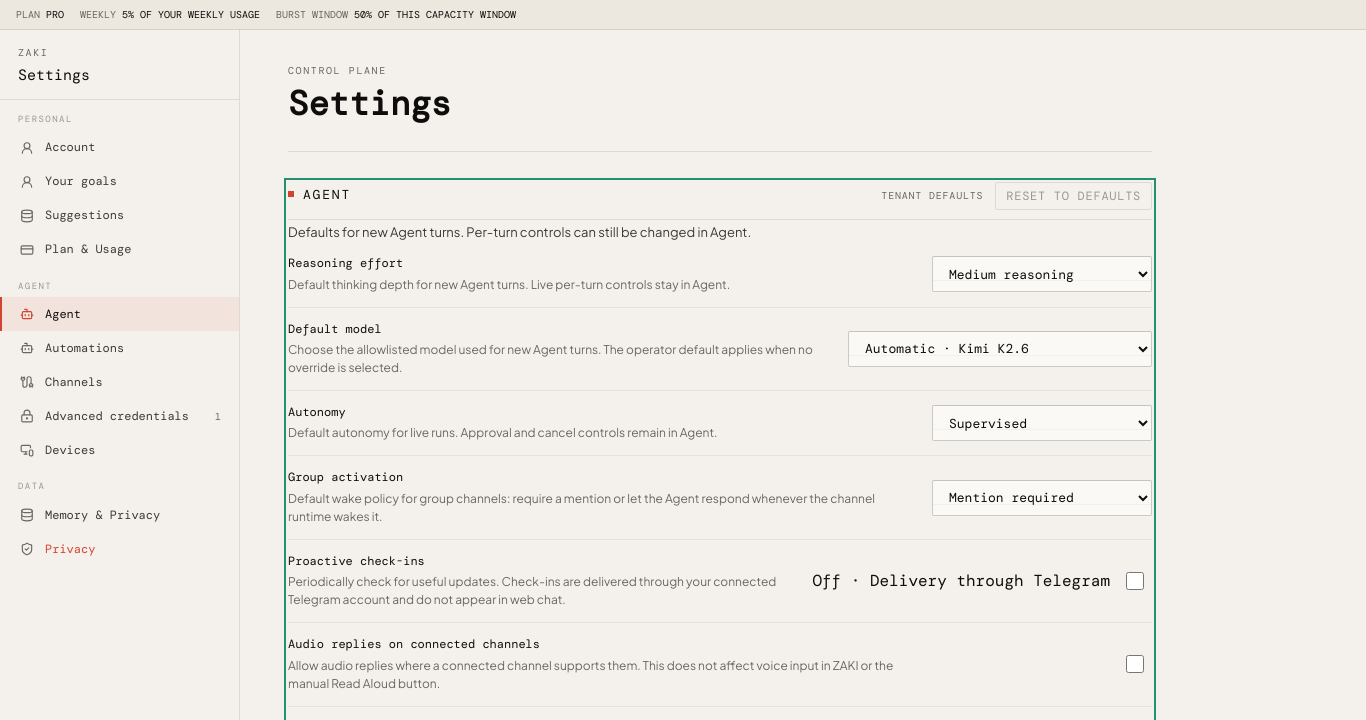
Scenario: SettingsPage › keeps memory governance editable only in Memory & Data
Click the link "Memory & Privacy": point(90, 515) [20,507,160,523]
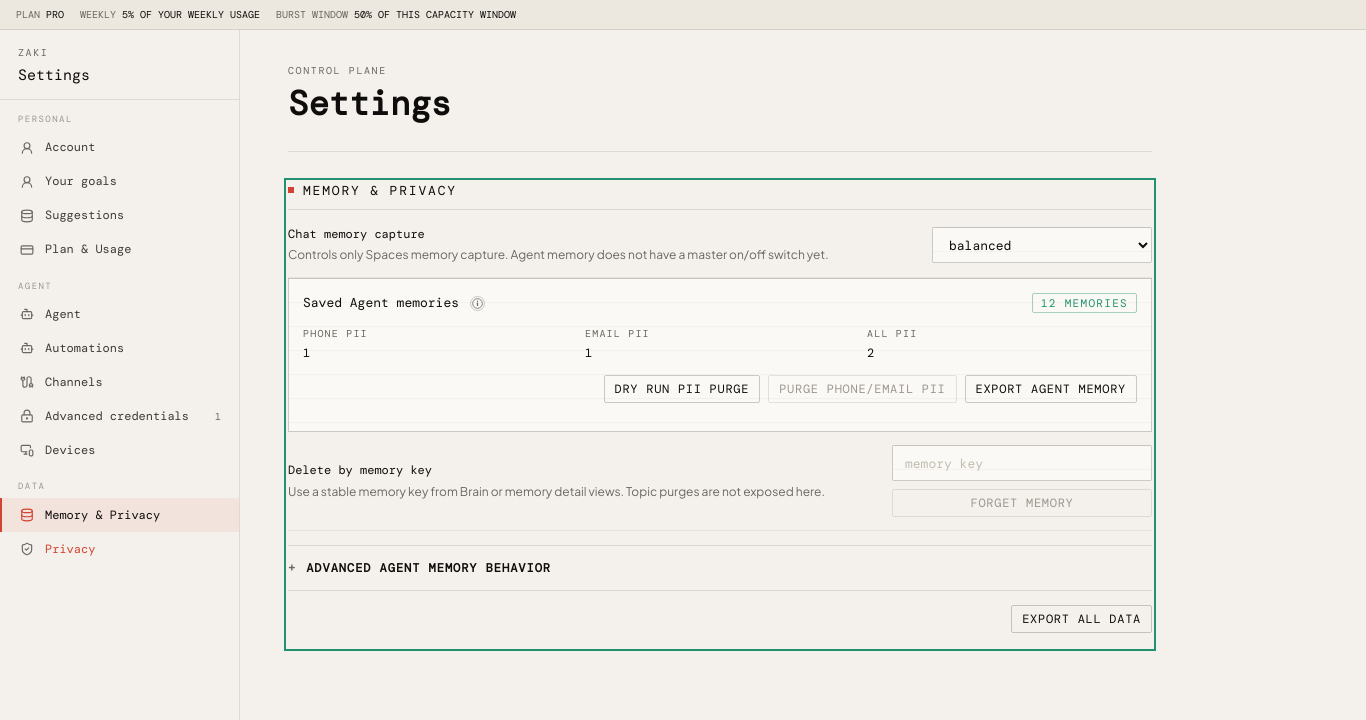
Now the element with test id "settings-memory-data" is shown, box [288,182,1152,648]
Now the button "Forget memory" is disabled, box [892,490,1152,518]
In the field named "Memory key to forget": point(1022, 464) [892,446,1152,482], type "mem_1"
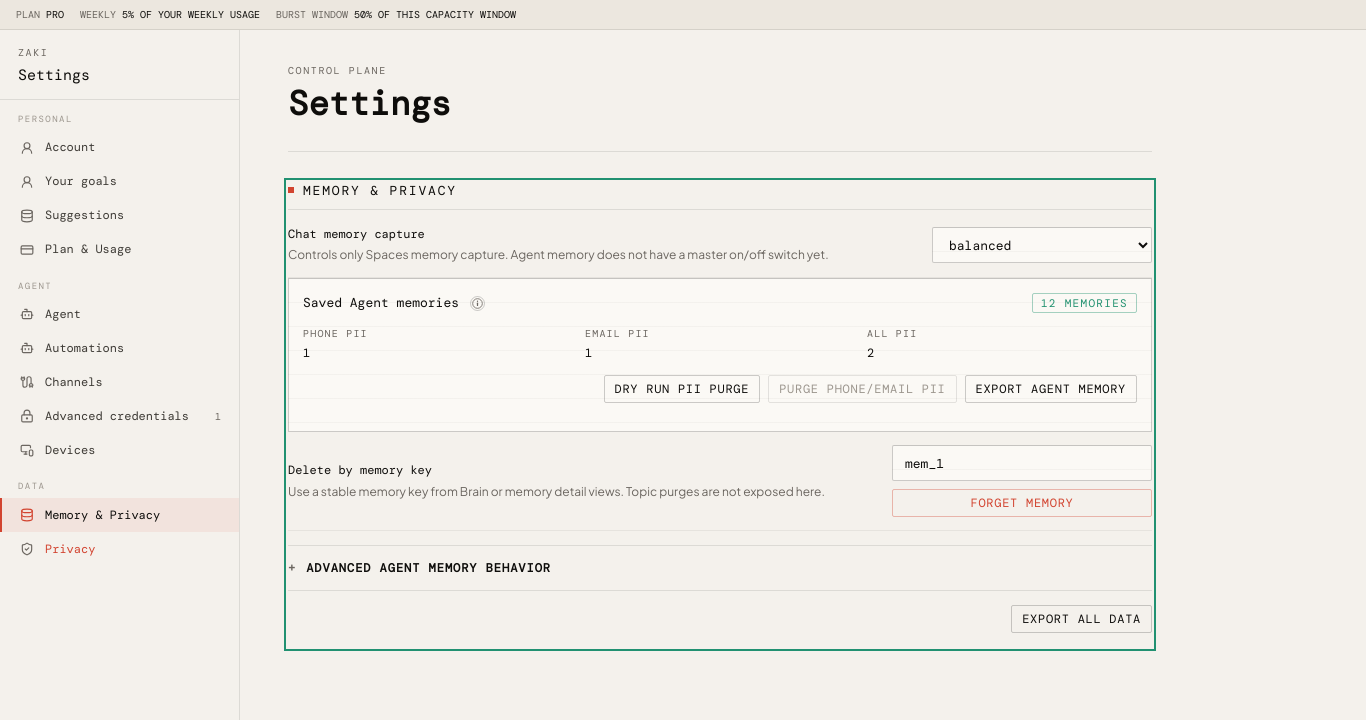
Now the button "Forget memory" is enabled, box [892,490,1152,518]
